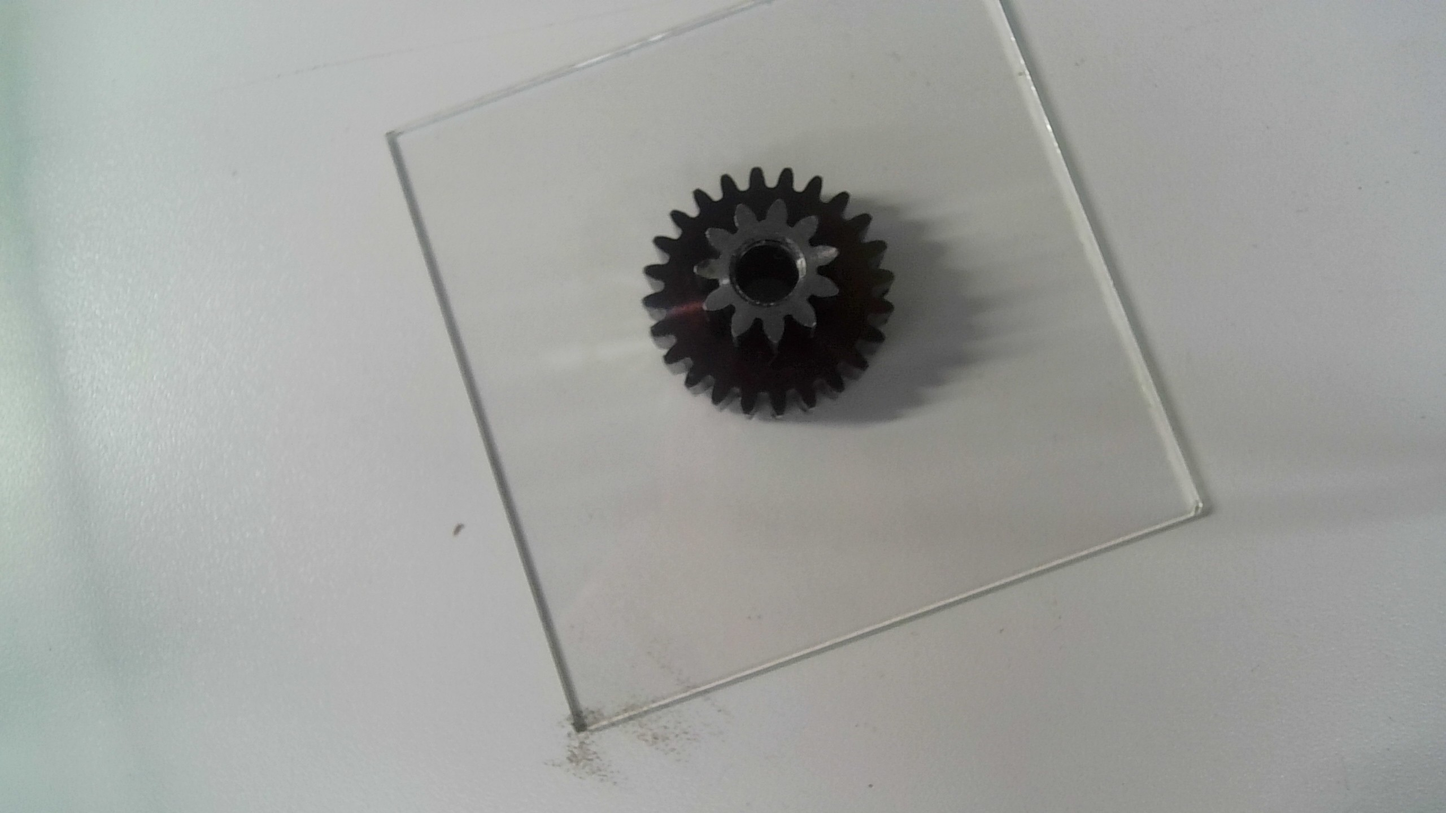gear: (638, 164, 899, 425)
